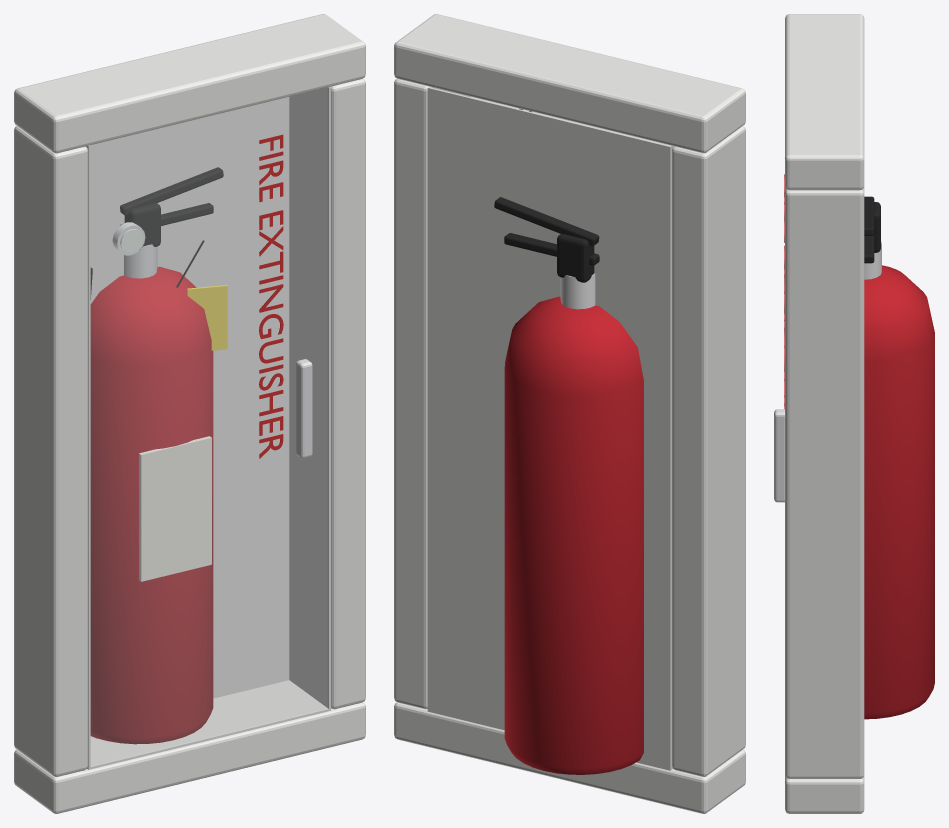
The model's file is hotel-extinguisher-cabinet.glb.
3 renders of one model, left to right at view 1: azimuth 30°, elevation 25°; view 2: azimuth 150°, elevation 25°; view 3: azimuth 270°, elevation 25°, orthographic. The views are drawn at different scales.
Visible parts, largest first — view 1: door_glass, tub_back, cylinder, trim.002, trim.001, tub_side.001, trim.003, trim, label, tub_floor, letters, tub_side (+6 smaller); view 2: tub_back, cylinder, trim.002, trim.001, trim.003, trim, valve, lever, neck, carry_handle, tub_side; view 3: trim.003, cylinder, trim.001, trim, pull, lever, neck, valve.
Boxes of the visible parts, left/top/right/bottom form: door_glass: left=86, top=87, right=335, bottom=765; tub_back: left=90, top=97, right=289, bottom=698; cylinder: left=90, top=266, right=213, bottom=744; trim.002: left=14, top=126, right=87, bottom=776; trim.001: left=14, top=14, right=365, bottom=153; tub_side.001: left=289, top=86, right=330, bottom=709; trim.003: left=331, top=78, right=365, bottom=709; trim: left=14, top=702, right=365, bottom=813; label: left=139, top=436, right=211, bottom=581; tub_floor: left=87, top=680, right=330, bottom=769; letters: left=259, top=134, right=283, bottom=458; tub_side: left=85, top=145, right=90, bottom=768; tub_back: left=427, top=87, right=671, bottom=770; cylinder: left=504, top=296, right=643, bottom=774; trim.002: left=672, top=126, right=745, bottom=776; trim.001: left=394, top=14, right=745, bottom=153; trim.003: left=394, top=78, right=428, bottom=709; trim: left=394, top=702, right=745, bottom=813; valve: left=557, top=233, right=594, bottom=282; lever: left=494, top=197, right=599, bottom=245; neck: left=560, top=273, right=595, bottom=309; carry_handle: left=504, top=233, right=599, bottom=265; tub_side: left=669, top=145, right=674, bottom=767; trim.003: left=785, top=186, right=864, bottom=778; cylinder: left=864, top=265, right=934, bottom=719; trim.001: left=785, top=14, right=864, bottom=190; trim: left=785, top=775, right=864, bottom=813; pull: left=774, top=409, right=784, bottom=502; lever: left=864, top=196, right=874, bottom=235; neck: left=864, top=241, right=881, bottom=279; valve: left=874, top=202, right=880, bottom=252.
Bounding box in the file's own units: 0.31 × 0.66 × 0.146.
